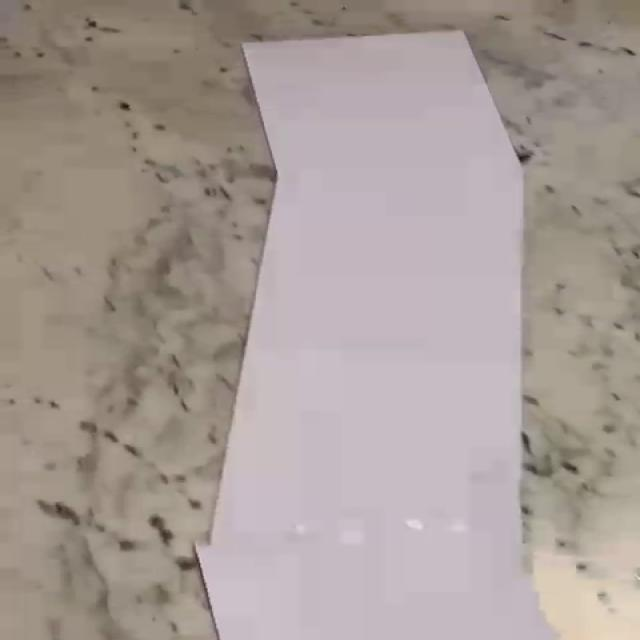road: (199, 31, 556, 640)
